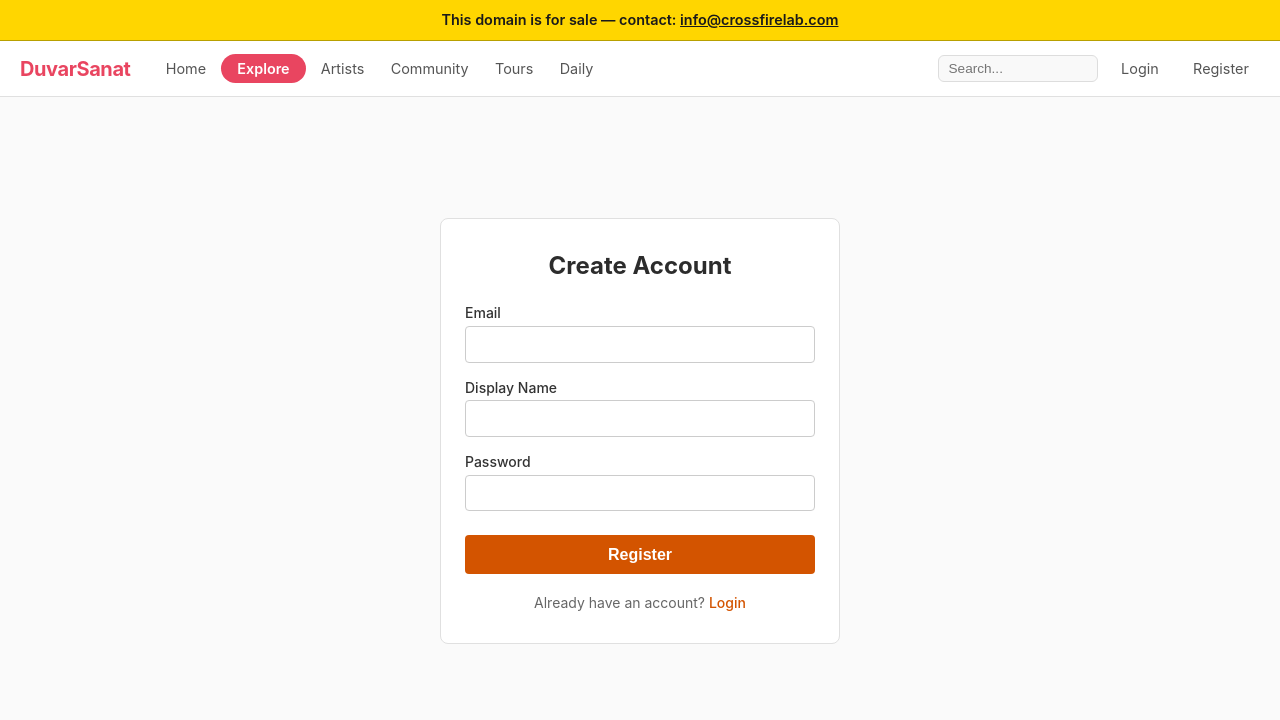
it: RegisterPage › shows short password error
Expected: the password field labelled "Password" is shown, [465,475,815,511]
Type "test@example.com" into the field labelled "Email" at (640, 344), box [465,326,815,363]
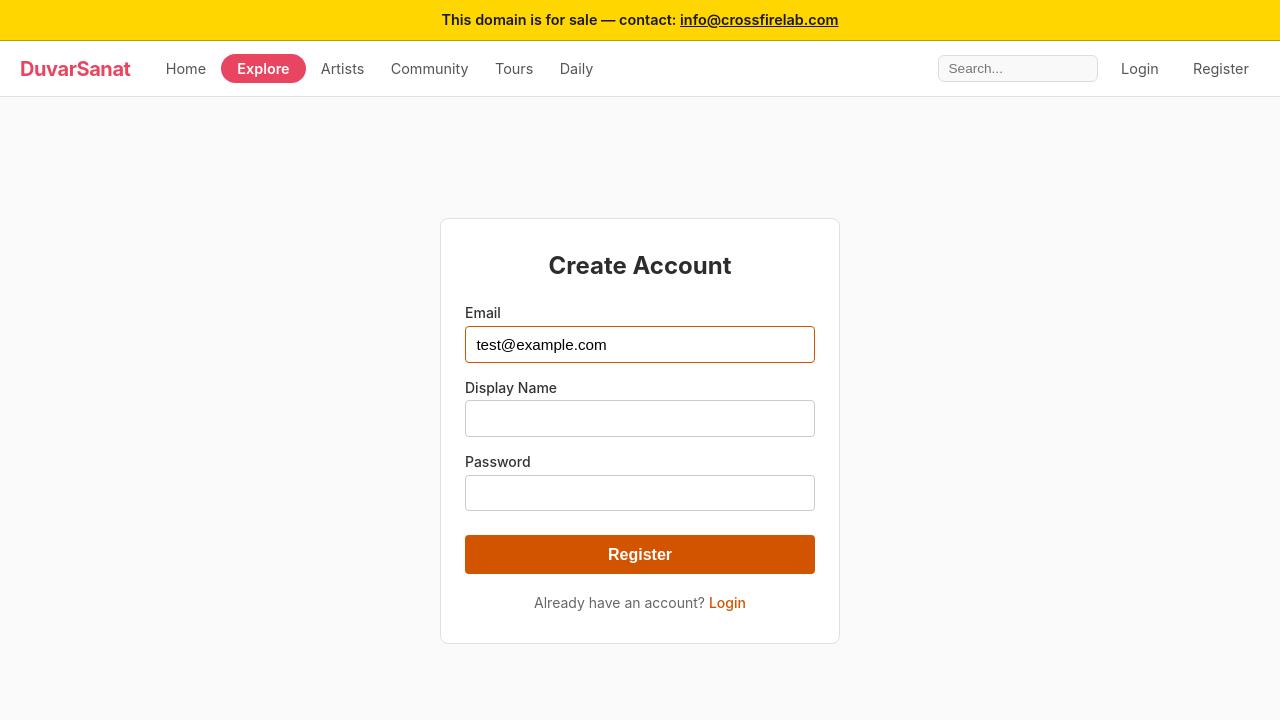
Type "TestUser" into the field labelled "Display Name" at (640, 419), box [465,400,815,437]
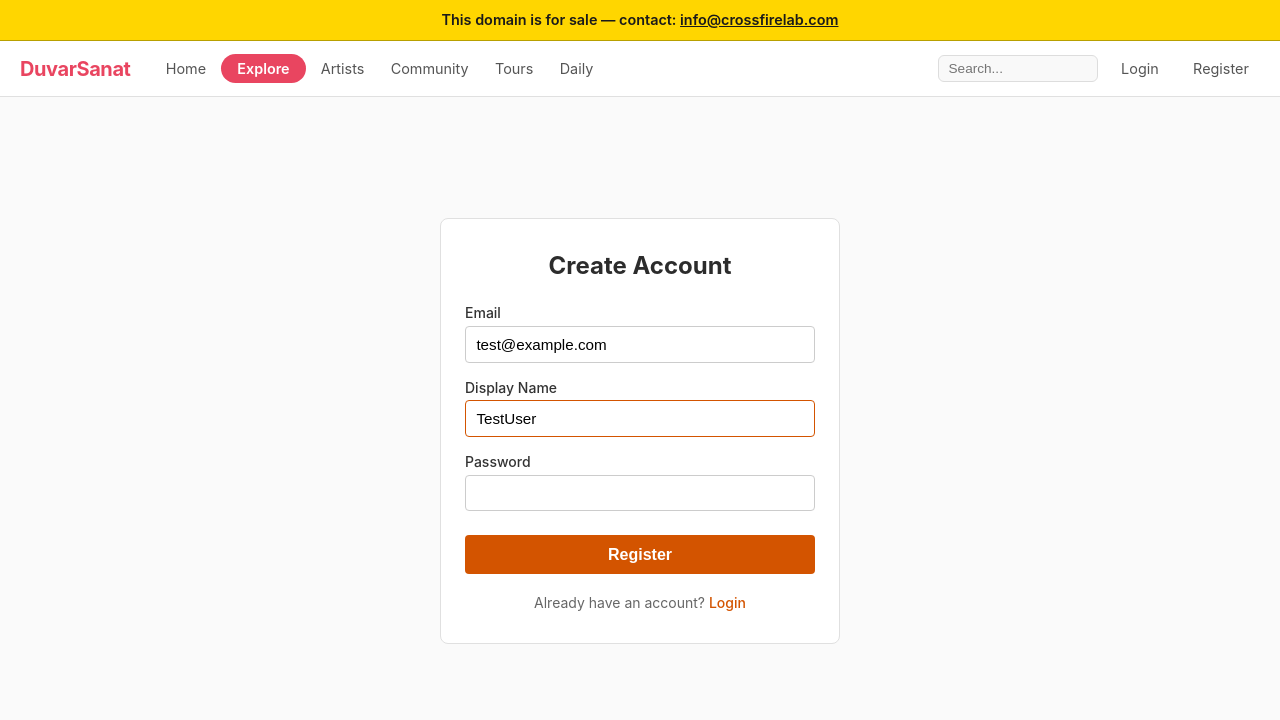
Type "short" into the password field labelled "Password" at (640, 493), box [465,475,815,511]
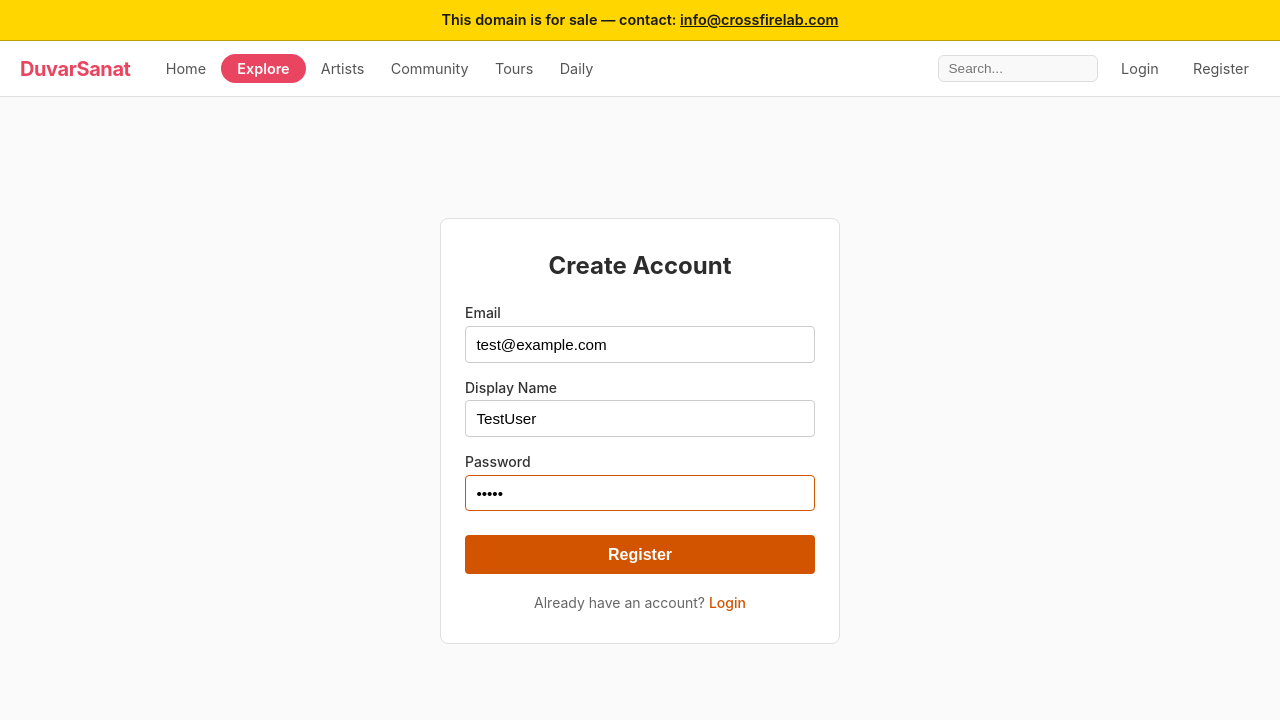
Click the button "Register" at (640, 555), box [465,535,815,574]
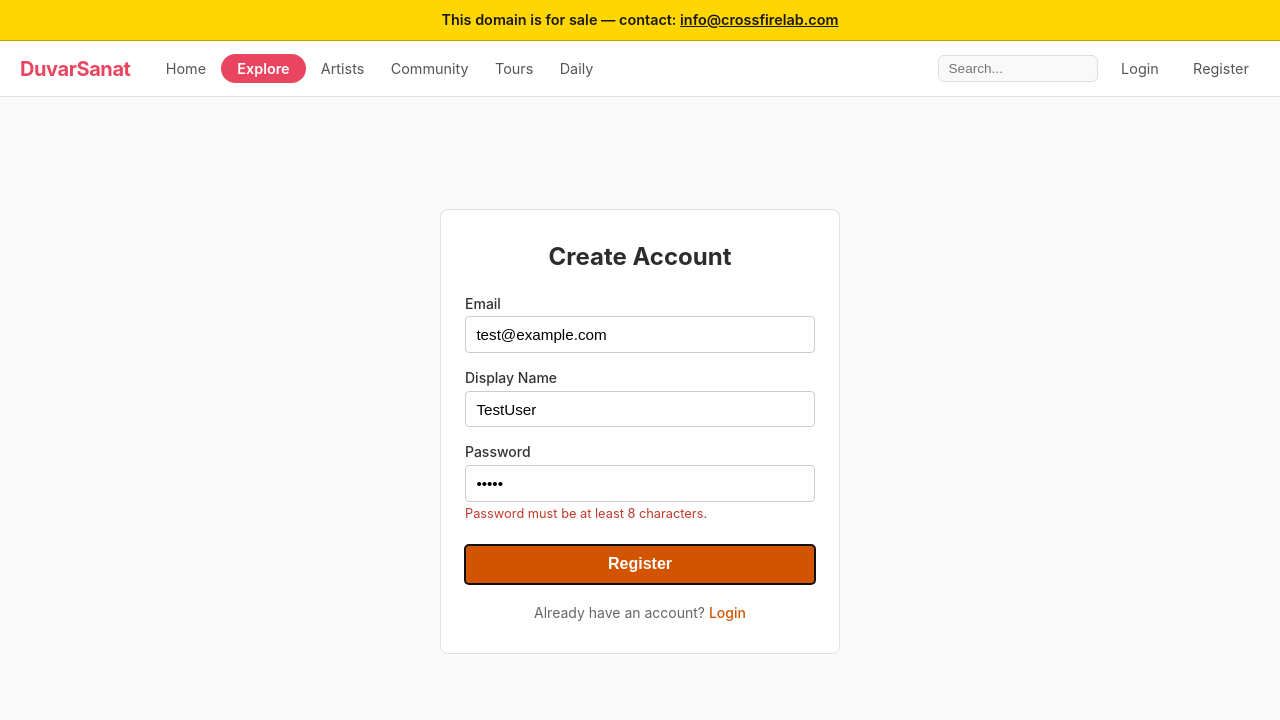
Now the text "Password must be at least 8 characters." is shown, box [465,506,707,521]
